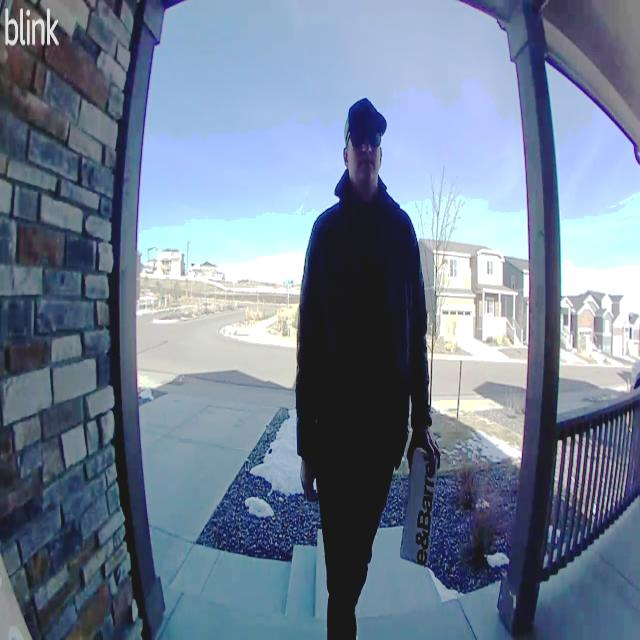Box: (398, 445, 441, 569)
